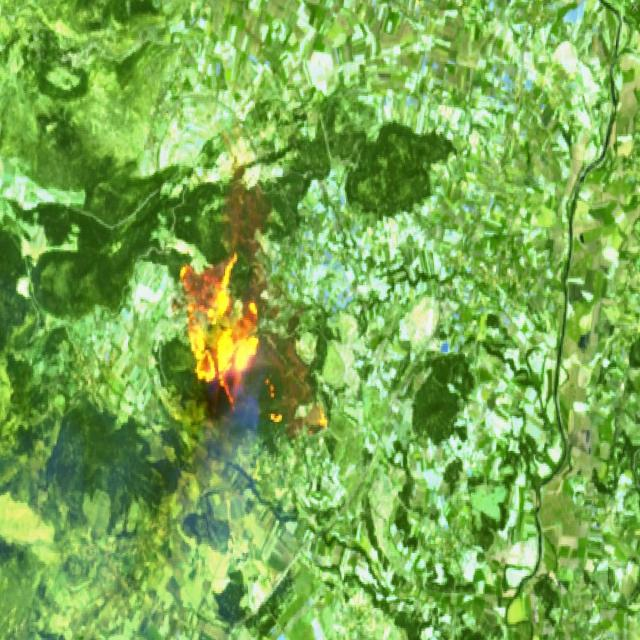fire: (168, 245, 274, 427)
